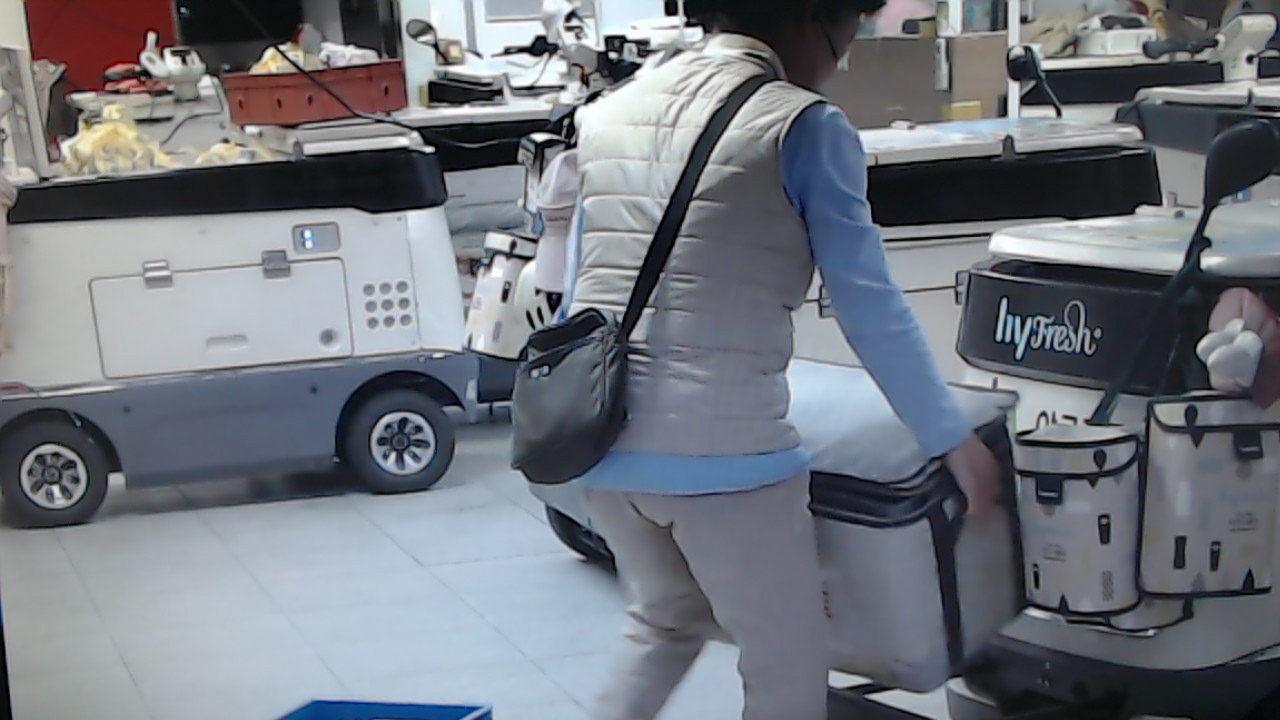Yakurut: (509, 3, 1019, 720)
